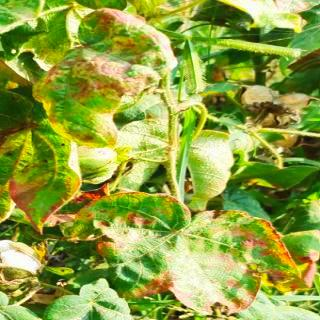blight: (63, 184, 312, 313), (21, 11, 183, 150)
